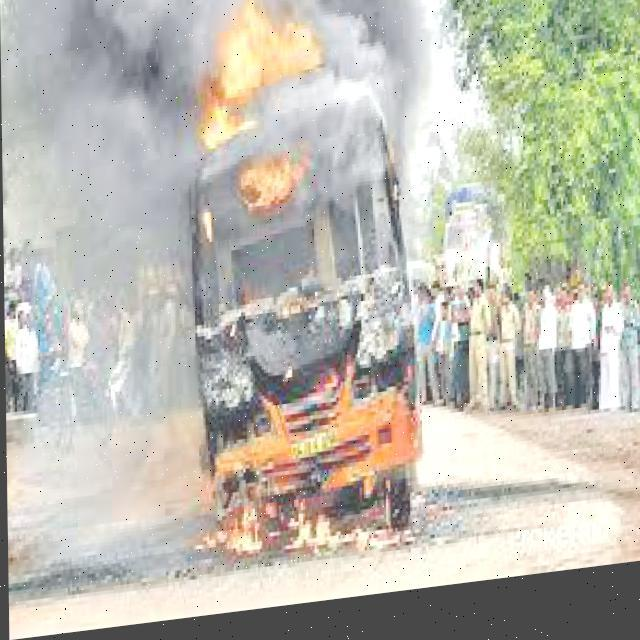Fire: (206, 394, 422, 598), (186, 0, 349, 157), (218, 152, 309, 250)
